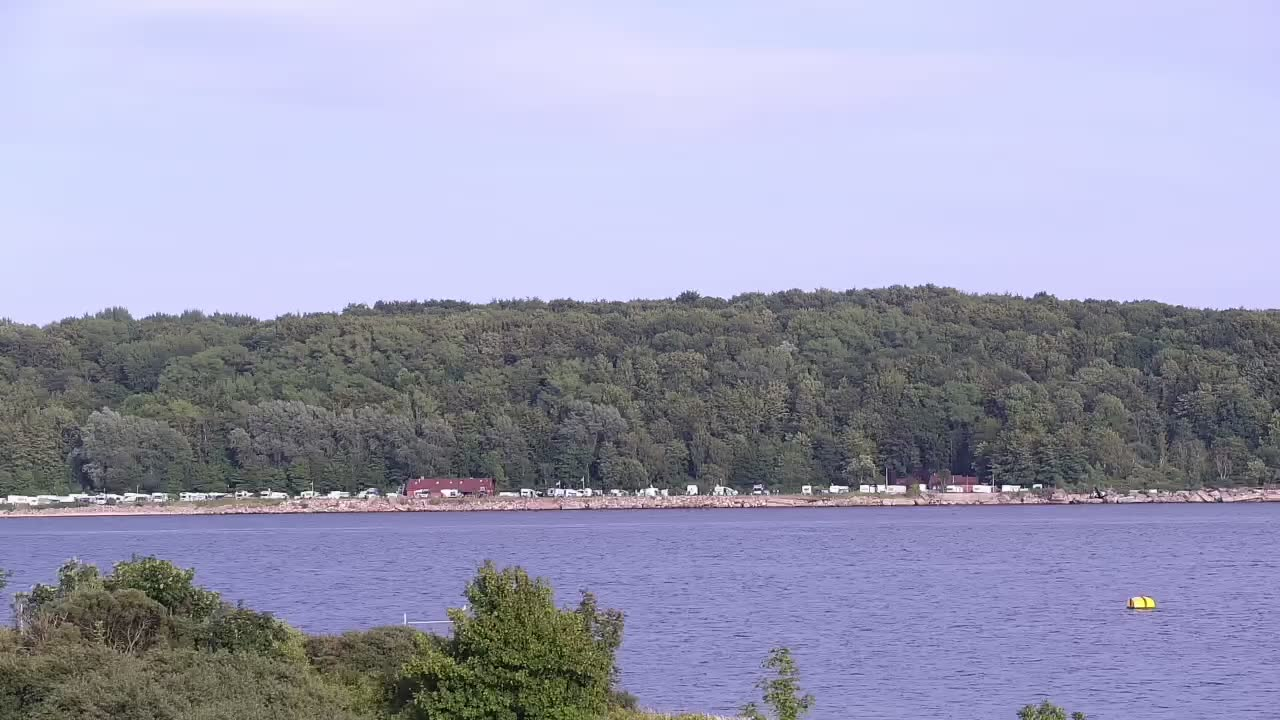land: (712, 486, 738, 497), (440, 488, 465, 498), (945, 484, 963, 494), (564, 489, 585, 497), (752, 484, 764, 496), (801, 484, 813, 496), (520, 487, 532, 497)
